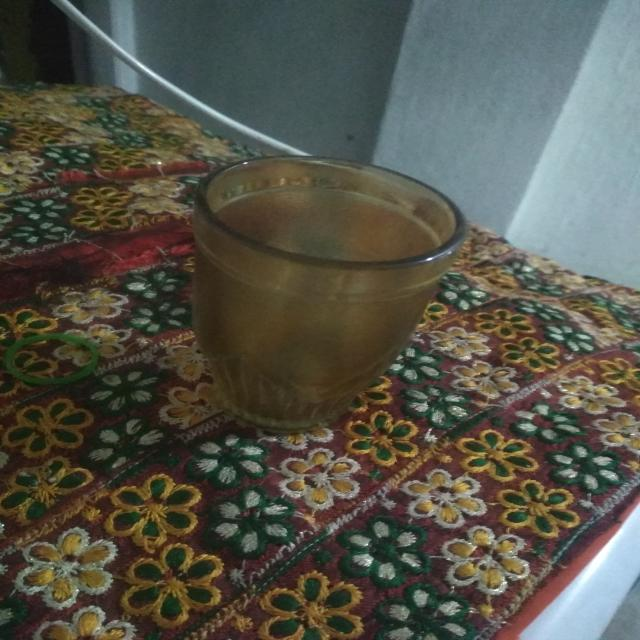Glass: (179, 152, 470, 434)
